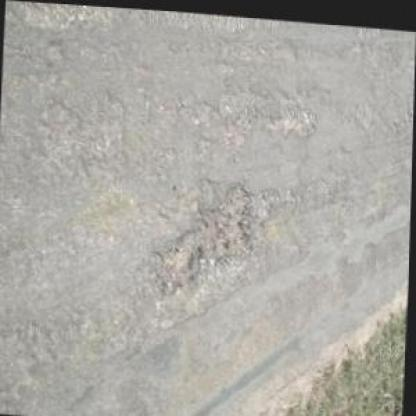pothole: (154, 172, 256, 294), (272, 98, 318, 136)
